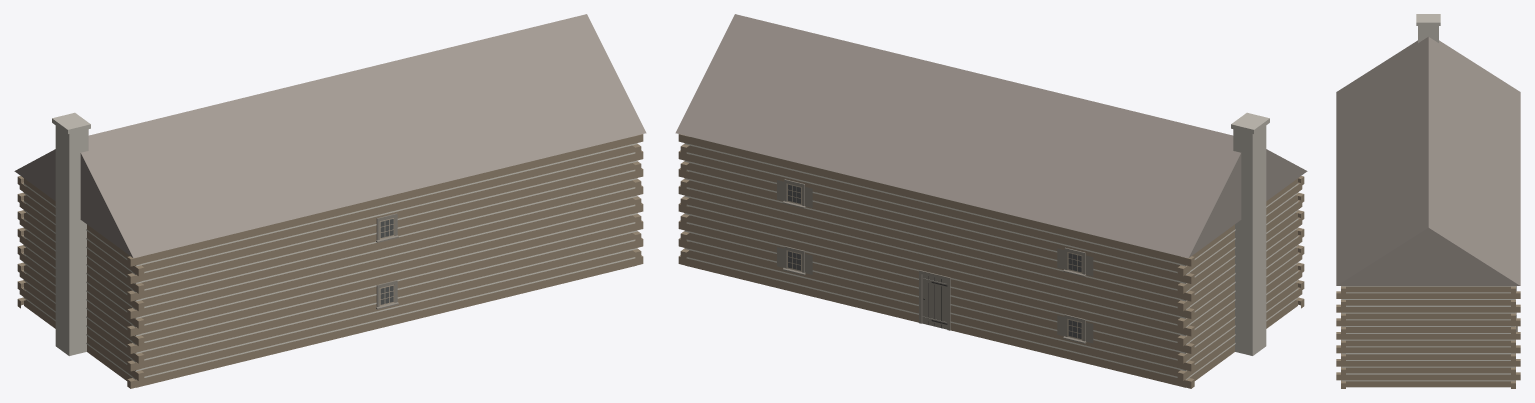
Rendered from fort_dearborn_us_factors_house__us_factors_house_1818.glb.
The picture shows the model from 3 angles, left to right: view 1: azimuth 30°, elevation 25°; view 2: azimuth 150°, elevation 25°; view 3: azimuth 270°, elevation 25°; orthographic projection. The views are drawn at different scales.
Parts seen in each view (by area): view 1: fort_dearborn_us_factors_house__us_factors_house_1818; view 2: fort_dearborn_us_factors_house__us_factors_house_1818; view 3: fort_dearborn_us_factors_house__us_factors_house_1818.
Boxes of the visible parts, x1=… form: fort_dearborn_us_factors_house__us_factors_house_1818: x1=14, y1=14, x2=646, y2=388; fort_dearborn_us_factors_house__us_factors_house_1818: x1=675, y1=14, x2=1307, y2=388; fort_dearborn_us_factors_house__us_factors_house_1818: x1=1336, y1=14, x2=1520, y2=388.
Bounding box in the file's own units: 21.47 × 8.86 × 8.4.
